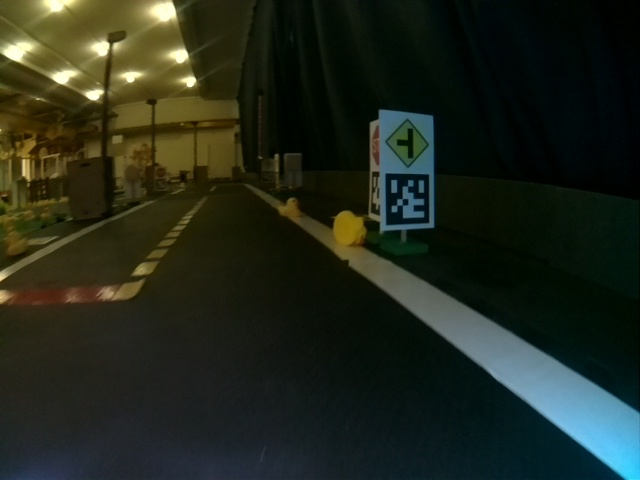Duckie: (334, 211, 366, 247), (5, 232, 28, 255), (279, 198, 300, 217)
Intersection sign: (386, 115, 434, 168)
QR code: (384, 173, 430, 226), (370, 173, 379, 220)
Stop sign: (370, 120, 378, 170)
